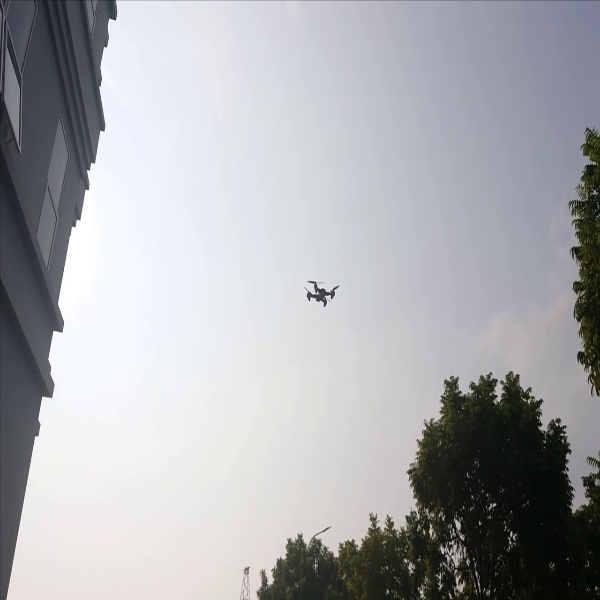drone: (295, 272, 346, 311)
